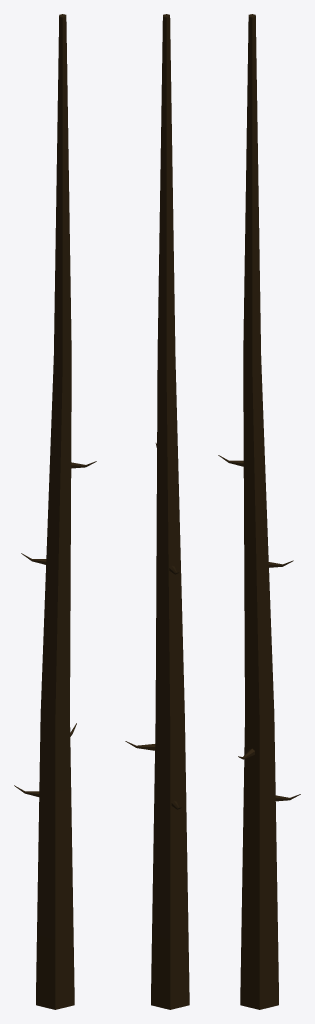
File: Tree5.fbx
The picture shows the model from 3 angles, left to right: view 1: azimuth 90°, elevation 25°; view 2: azimuth 210°, elevation 25°; view 3: azimuth 270°, elevation 25°; orthographic projection.
Parts seen in each view (by area): view 1: Zylinder; view 2: Zylinder; view 3: Zylinder.
Boxes of the visible parts, bbox=[...] form: Zylinder: bbox=[36, 14, 74, 1009]; Zylinder: bbox=[151, 14, 189, 1009]; Zylinder: bbox=[240, 14, 278, 1009].
Bounding box in the file's own units: 183 × 3210 × 244.
